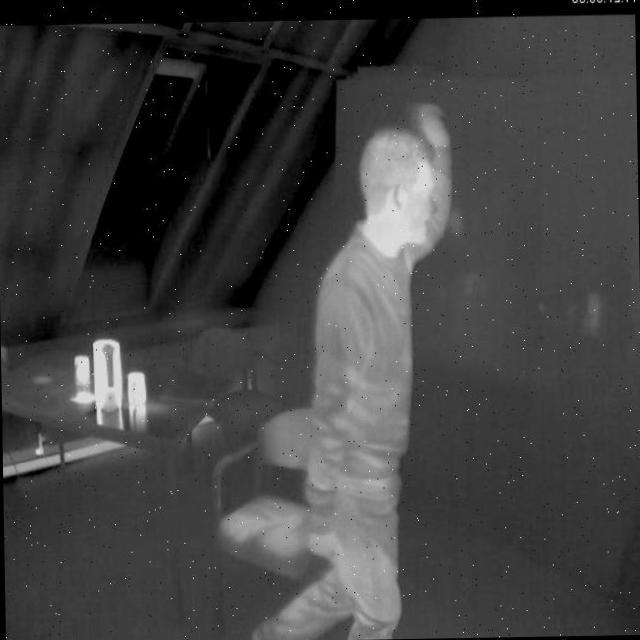person: (288, 103, 457, 640)
